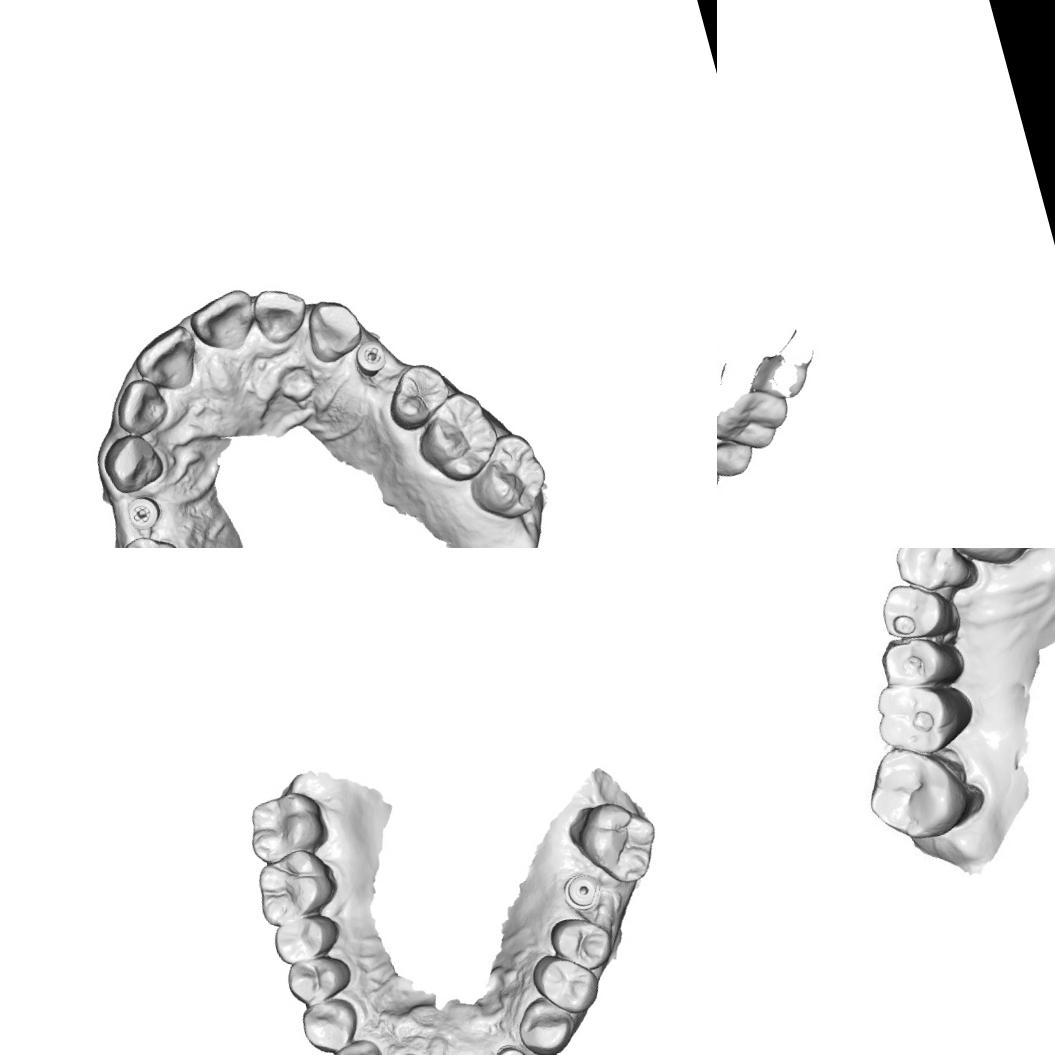canine: (886, 548, 983, 609), (98, 426, 170, 498), (299, 292, 369, 366), (510, 988, 581, 1055), (293, 991, 365, 1055)
implant: (557, 868, 606, 916), (488, 1038, 530, 1055)
implant_plus: (350, 336, 392, 380), (122, 491, 164, 534)
incisor: (125, 320, 206, 394), (183, 284, 263, 355), (247, 280, 313, 348), (107, 374, 174, 439), (925, 548, 1015, 579), (324, 1032, 390, 1055)
molar: (854, 728, 996, 854), (562, 788, 668, 894), (868, 666, 985, 762), (456, 425, 556, 530), (407, 385, 505, 491), (245, 840, 345, 929), (239, 784, 333, 870)
premolar: (870, 569, 968, 659), (876, 623, 972, 703), (524, 942, 604, 1023), (378, 356, 455, 431), (544, 908, 618, 978), (280, 947, 356, 1009), (269, 908, 345, 968), (717, 389, 759, 487), (111, 524, 191, 548)
